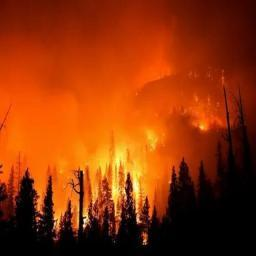Heavy smoke: (4, 0, 109, 136)
Large fire: (18, 153, 161, 241), (113, 125, 221, 185)
Medium fire: (183, 57, 242, 138)
